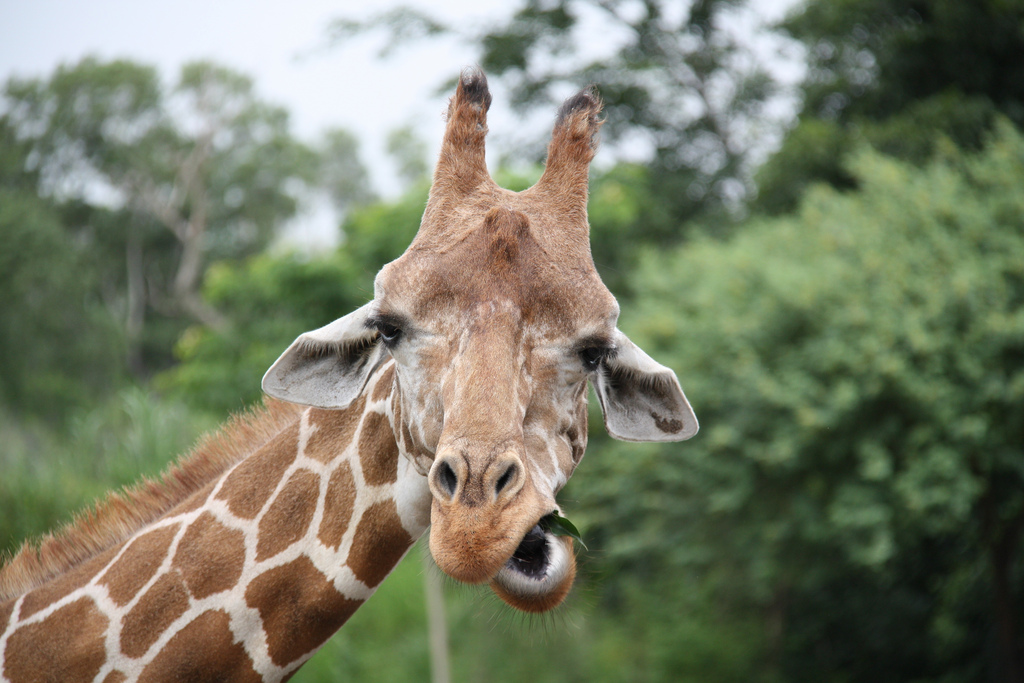giraffe: (24, 58, 714, 673)
